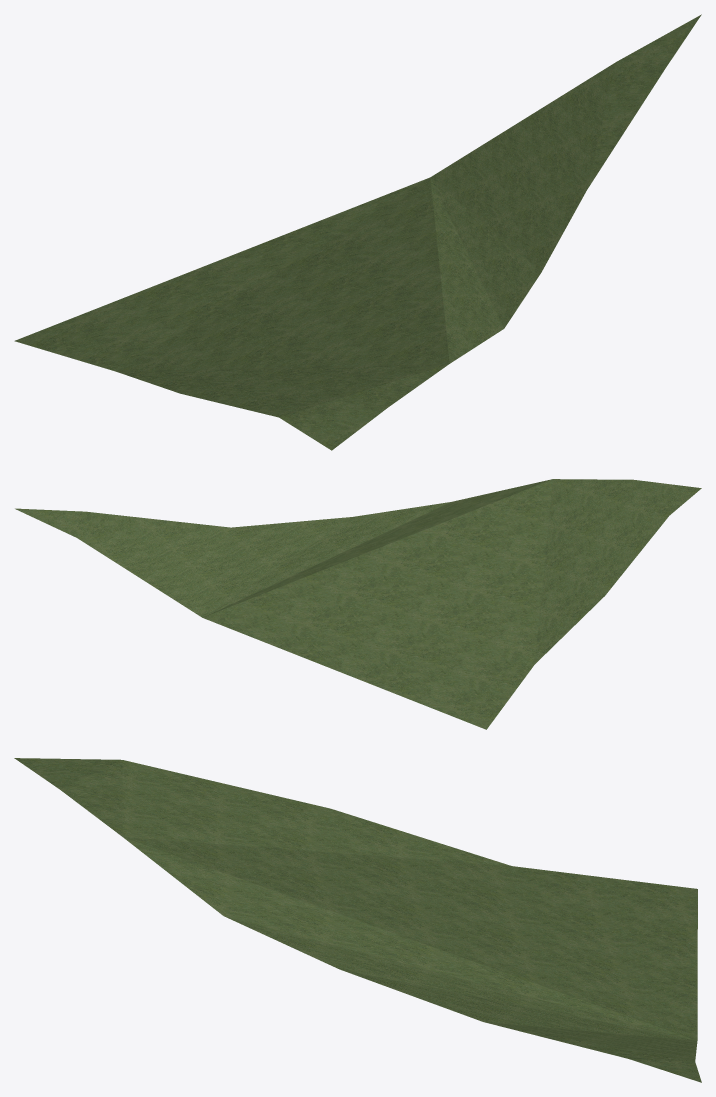
Rendered from LODa_carisle_mid_landmass_02_14.fbx.
3 renders of one model, top to bottom at view 1: azimuth 30°, elevation 25°; view 2: azimuth 150°, elevation 25°; view 3: azimuth 270°, elevation 25°, orthographic. The views are drawn at different scales.
Parts seen in each view (by area): view 1: LODa_carisle_mid_landmass_02_14; view 2: LODa_carisle_mid_landmass_02_14; view 3: LODa_carisle_mid_landmass_02_14.
Boxes of the visible parts, bbox=[...] form: LODa_carisle_mid_landmass_02_14: bbox=[14, 14, 701, 450]; LODa_carisle_mid_landmass_02_14: bbox=[15, 479, 701, 729]; LODa_carisle_mid_landmass_02_14: bbox=[14, 758, 701, 1082].
Bounding box in the file's own units: 38.95 × 30.98 × 8.43.
